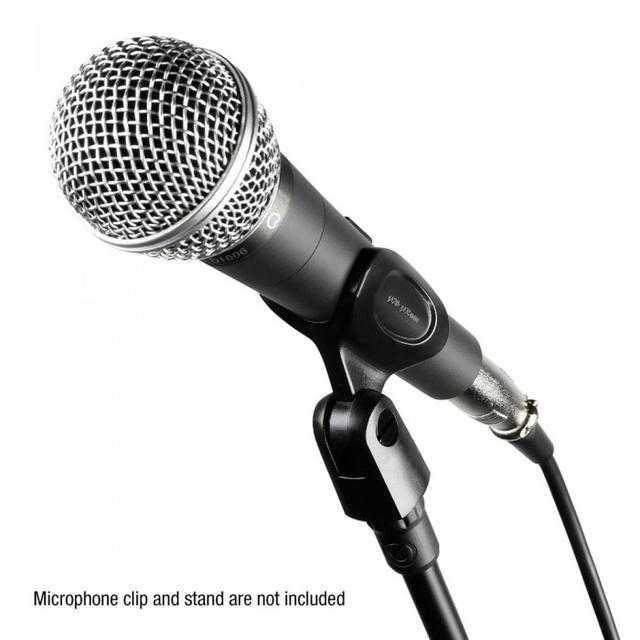microphone: (46, 32, 539, 424)
